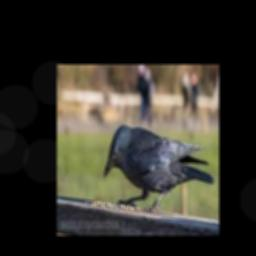Crow: (103, 124, 214, 211)
